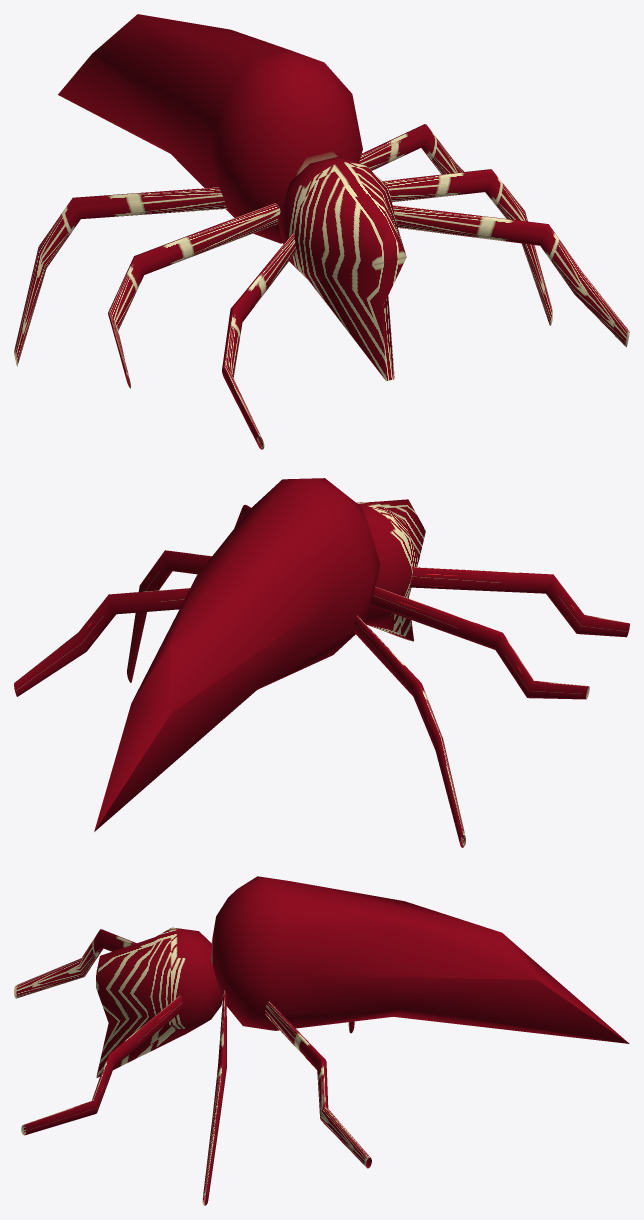
The model's file is spider.obj.
3 renders of one model, top to bottom at view 1: azimuth 30°, elevation 25°; view 2: azimuth 150°, elevation 25°; view 3: azimuth 270°, elevation 25°, orthographic. The views are drawn at different scales.
Visible parts, largest first — view 1: 2, 3, 1; view 2: 2, 3, 1; view 3: 2, 1, 3.
Boxes of the visible parts, <box> form: 2: <box>58,14,362,243</box>; 3: <box>14,124,629,449</box>; 1: <box>277,156,406,381</box>; 2: <box>94,478,380,831</box>; 3: <box>14,504,629,847</box>; 1: <box>356,499,425,641</box>; 2: <box>211,876,629,1043</box>; 1: <box>96,927,222,1077</box>; 3: <box>14,929,371,1205</box>.
Size of the model in its own units: 15.85 by 9.54 by 22.28.
1 material, 1 textured.
